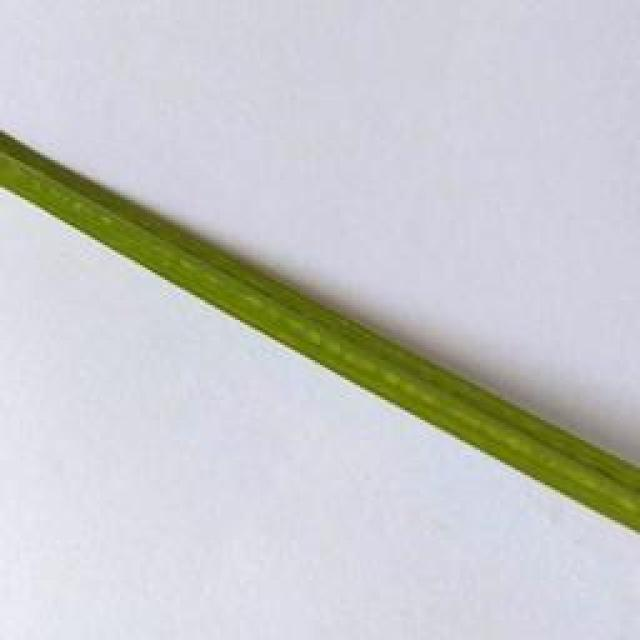Healthy-Plant: (0, 123, 640, 535)
